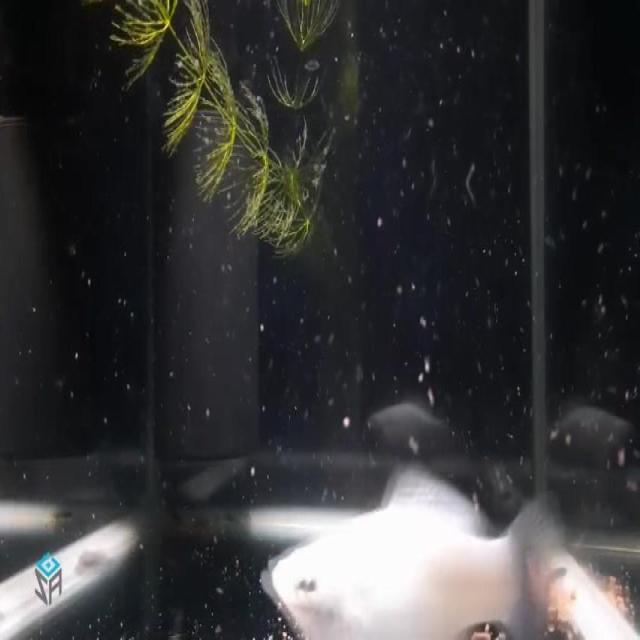PlatyFish: (248, 461, 574, 640)
